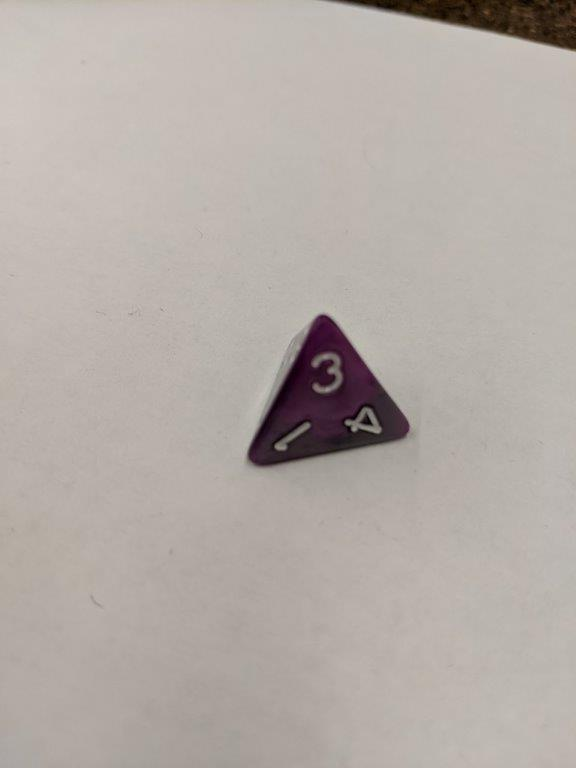d4-3: (246, 309, 413, 470)
